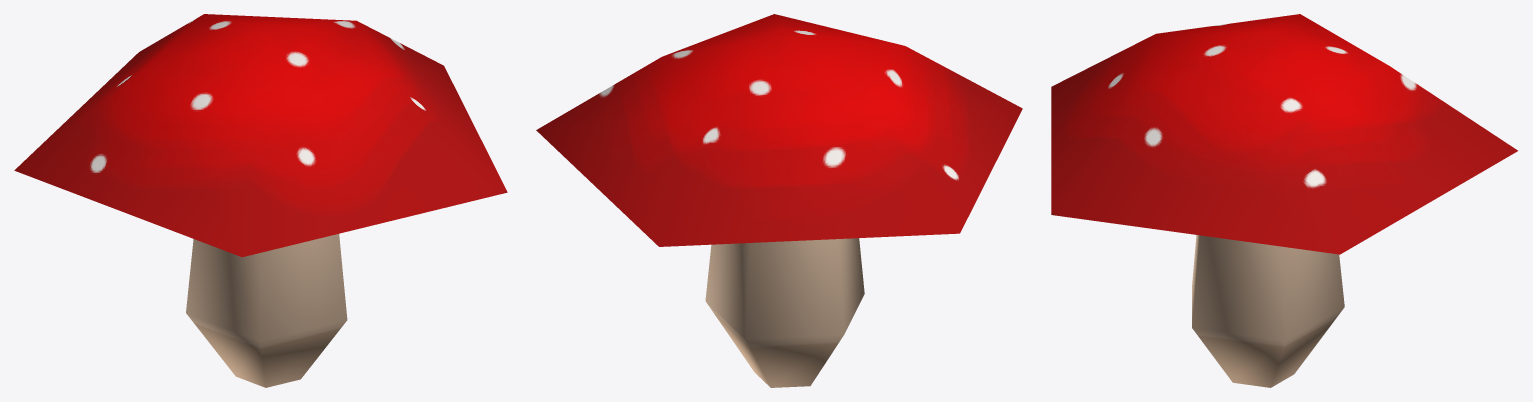
Rendered from champi02.FBX.
3 renders of one model, left to right at view 1: azimuth 30°, elevation 25°; view 2: azimuth 150°, elevation 25°; view 3: azimuth 270°, elevation 25°, orthographic.
Visible parts, largest first — view 1: champi02_LOD00; view 2: champi02_LOD00; view 3: champi02_LOD00.
Part boxes in pixels (<box>): champi02_LOD00: <box>14,14,507,387</box>; champi02_LOD00: <box>536,14,1022,387</box>; champi02_LOD00: <box>1051,14,1517,387</box>.
Size of what is drawn, in the model's own units: 0.9624 by 0.7339 by 0.9153.
